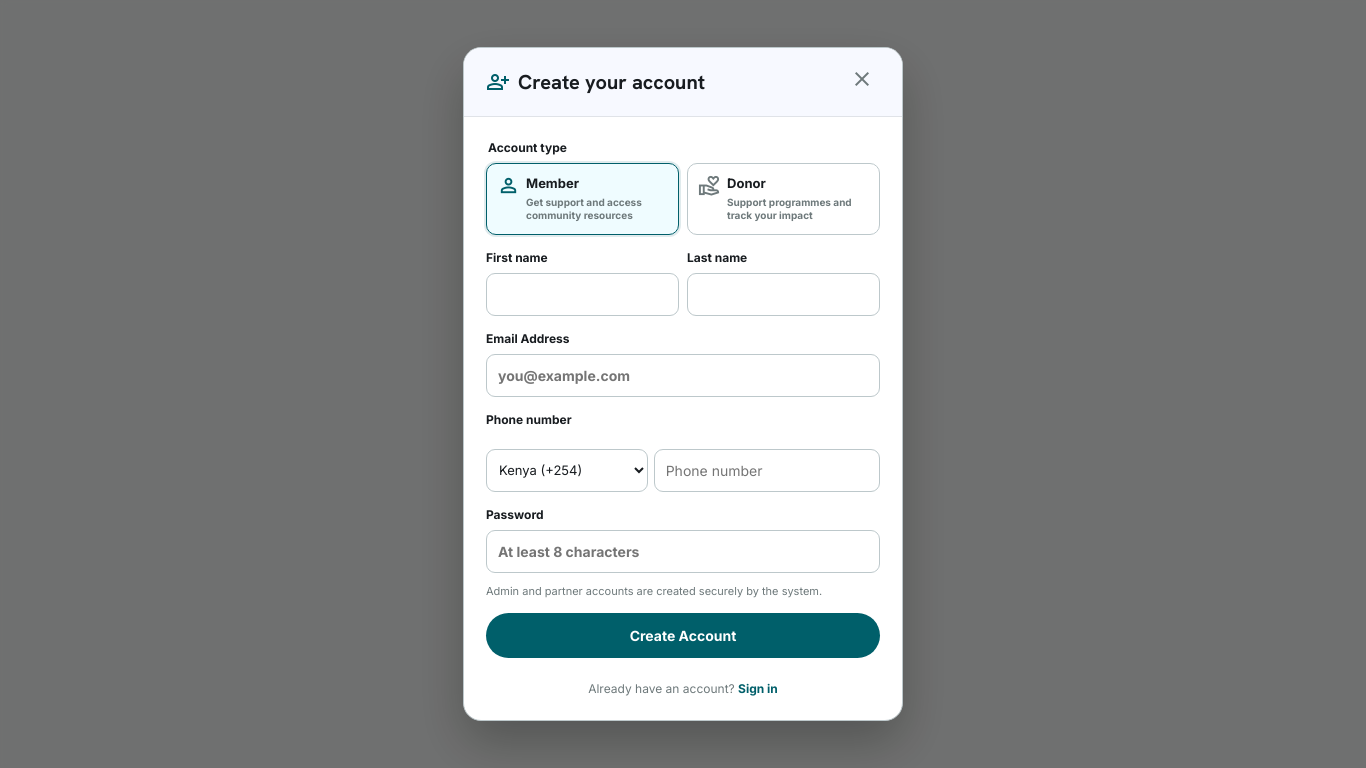
it: Signup › renders a server validation error
Type "Ada" into the field labelled "First name". click: (582, 294)
box: [486,272,679,316]
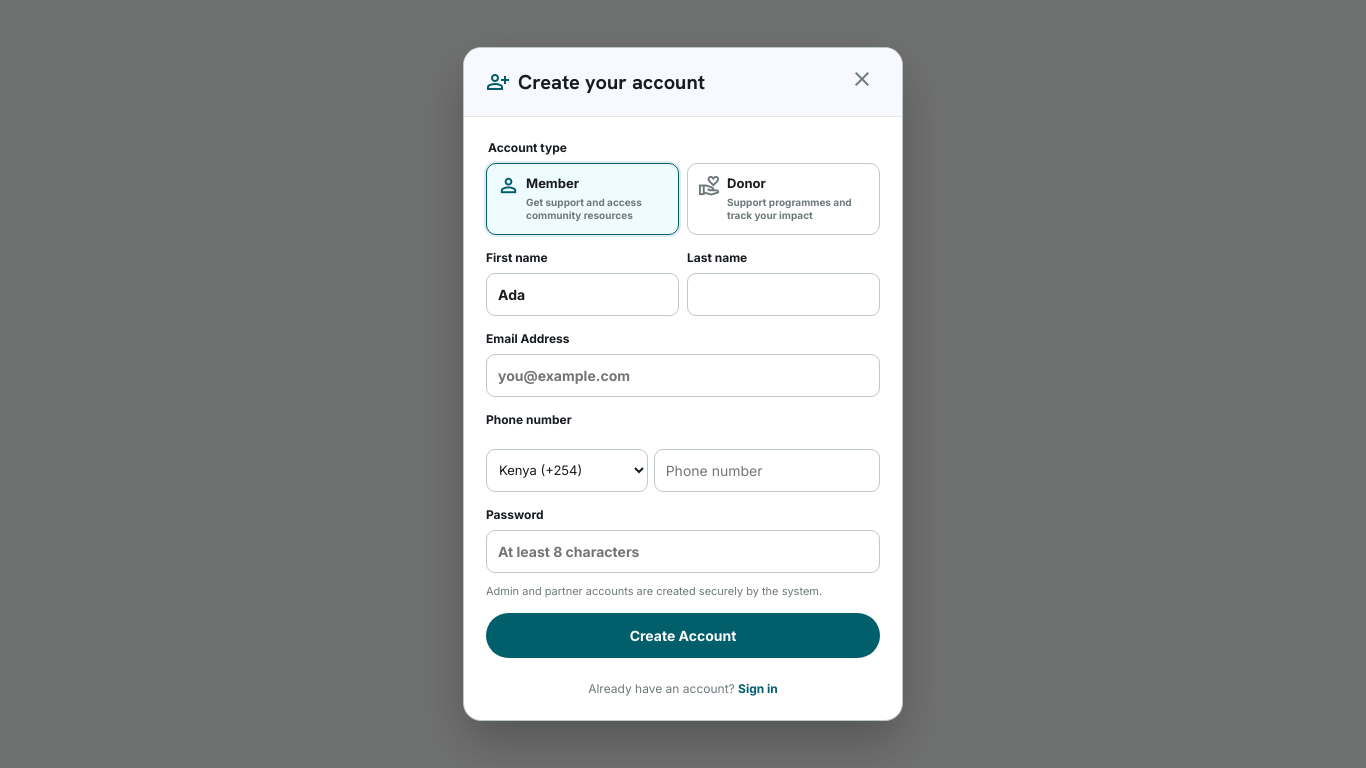
Type "Lovelace" into the field labelled "Last name". click: (784, 294)
box: [687,272,880,316]
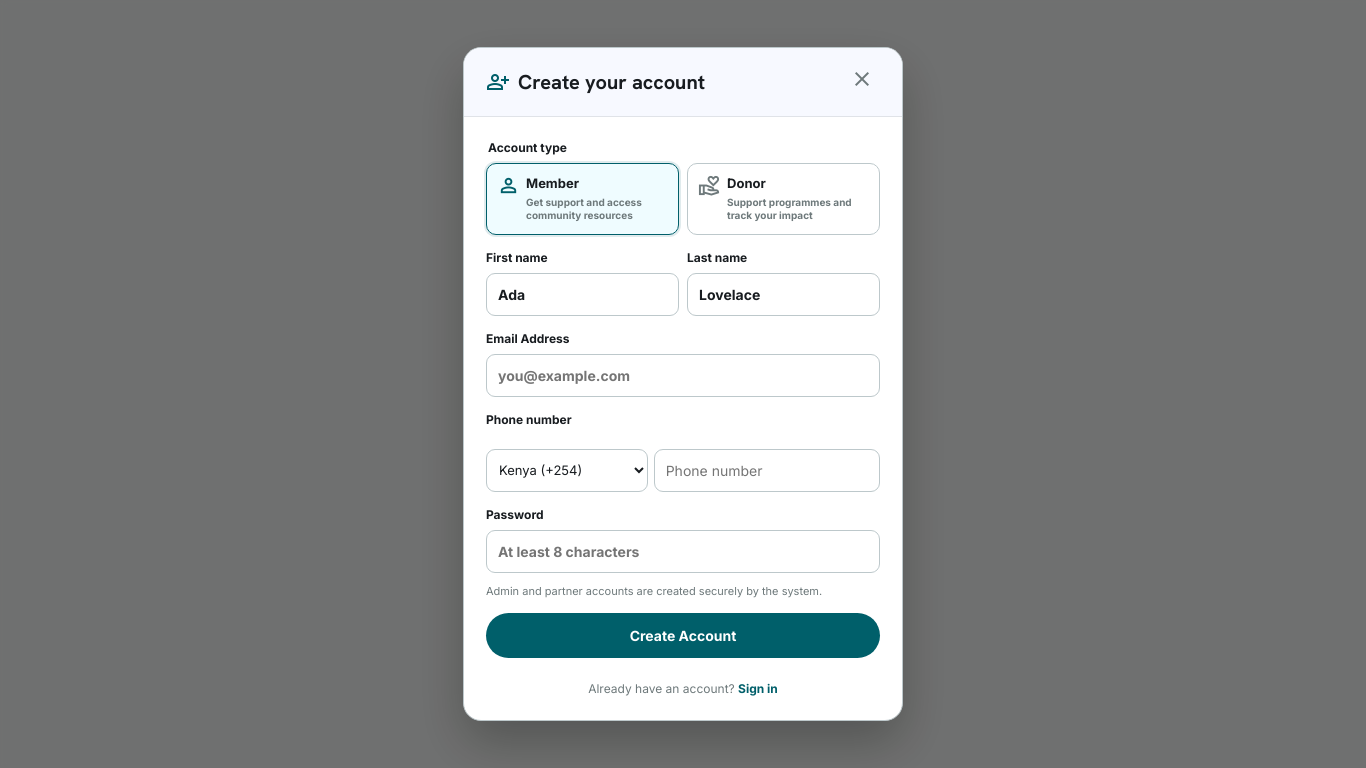
Type "bad@example.com" into the field labelled "Email Address". click: (683, 375)
box: [486,354,880,396]
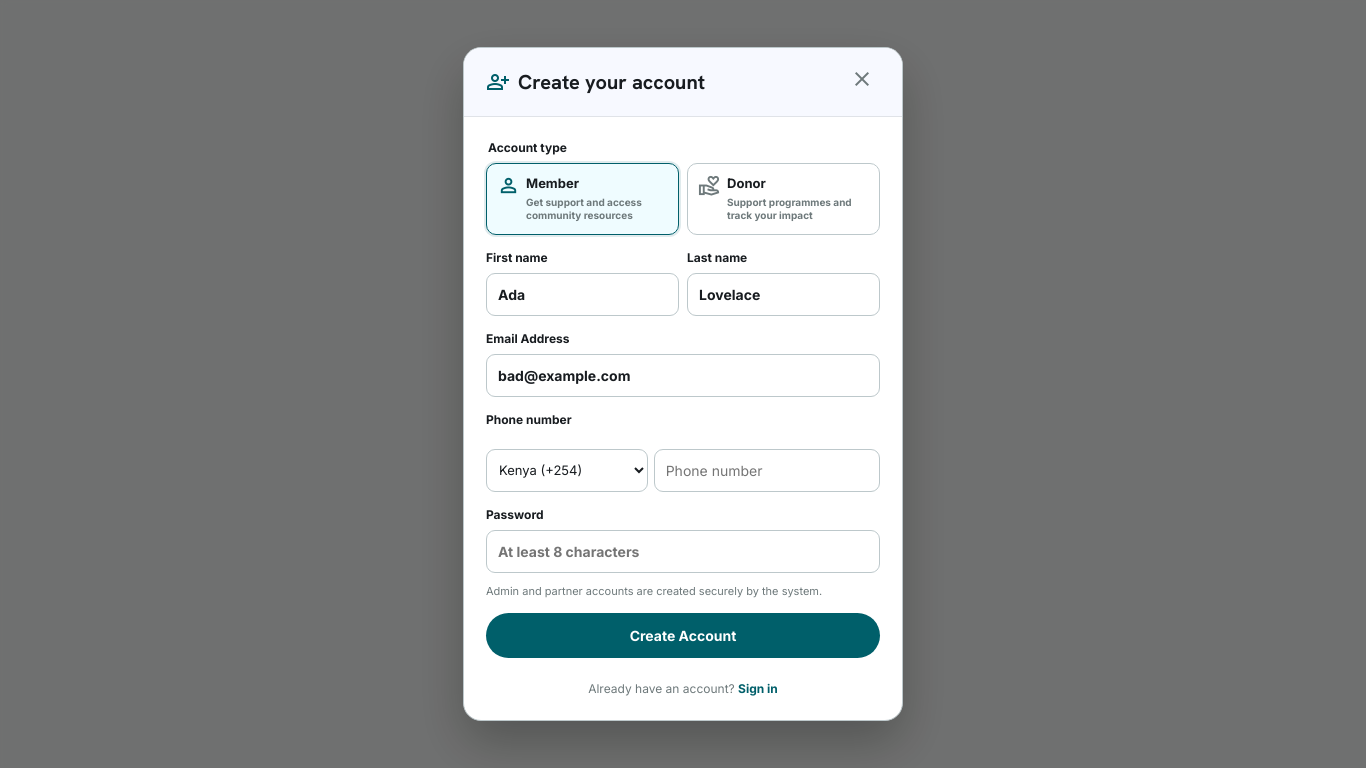
Type "short" into the password field labelled "Password". click: (683, 551)
box: [486,530,880,572]
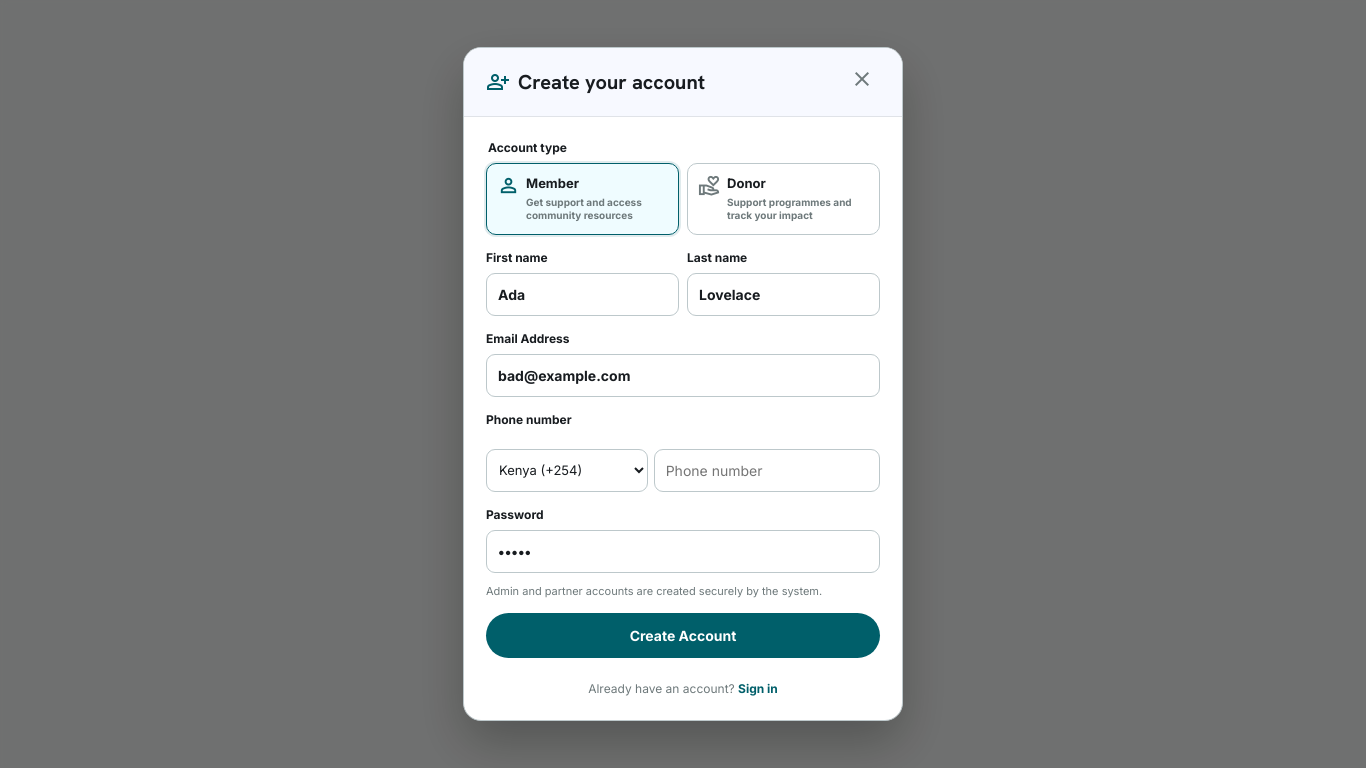
Submit the form named "Create Account", box [464,116,902,680]
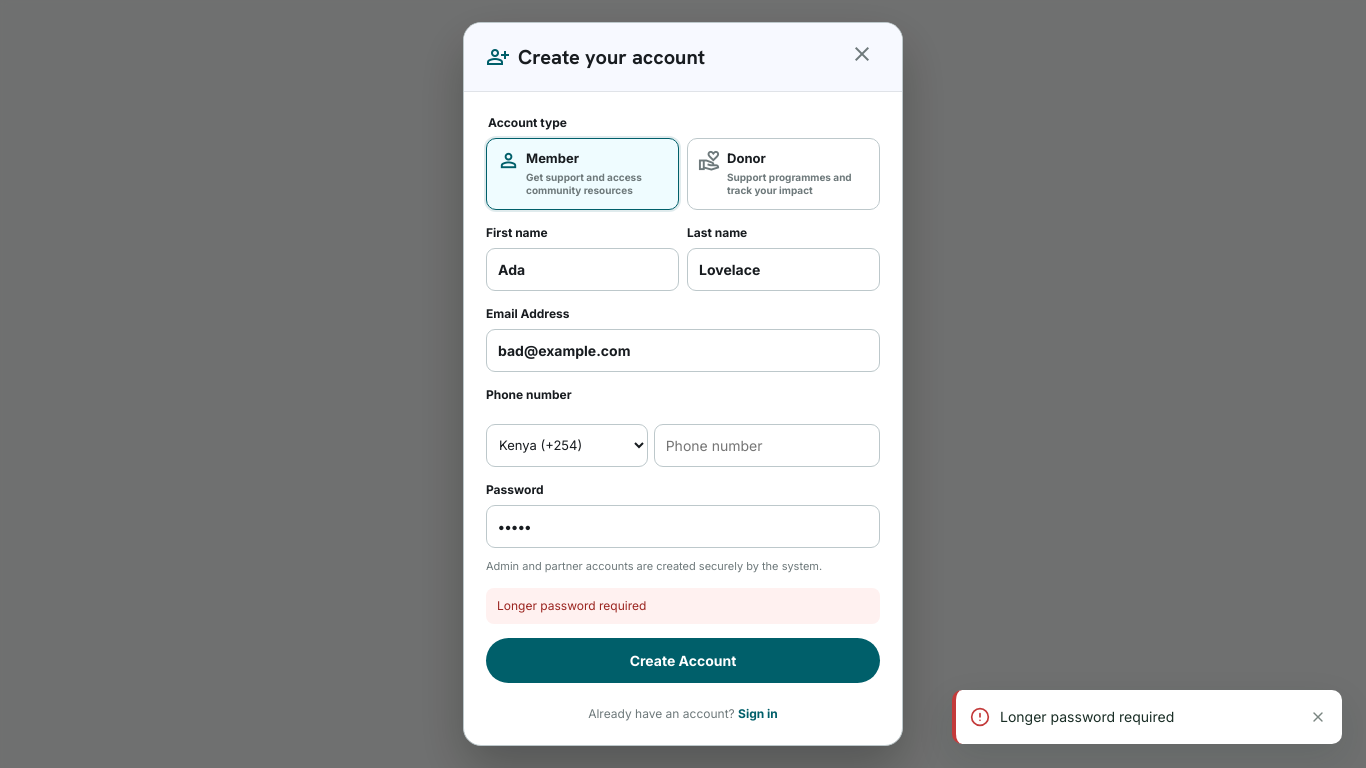
Expected: the message "Longer password required" below "Phone number" is shown, [497,598,646,614]
